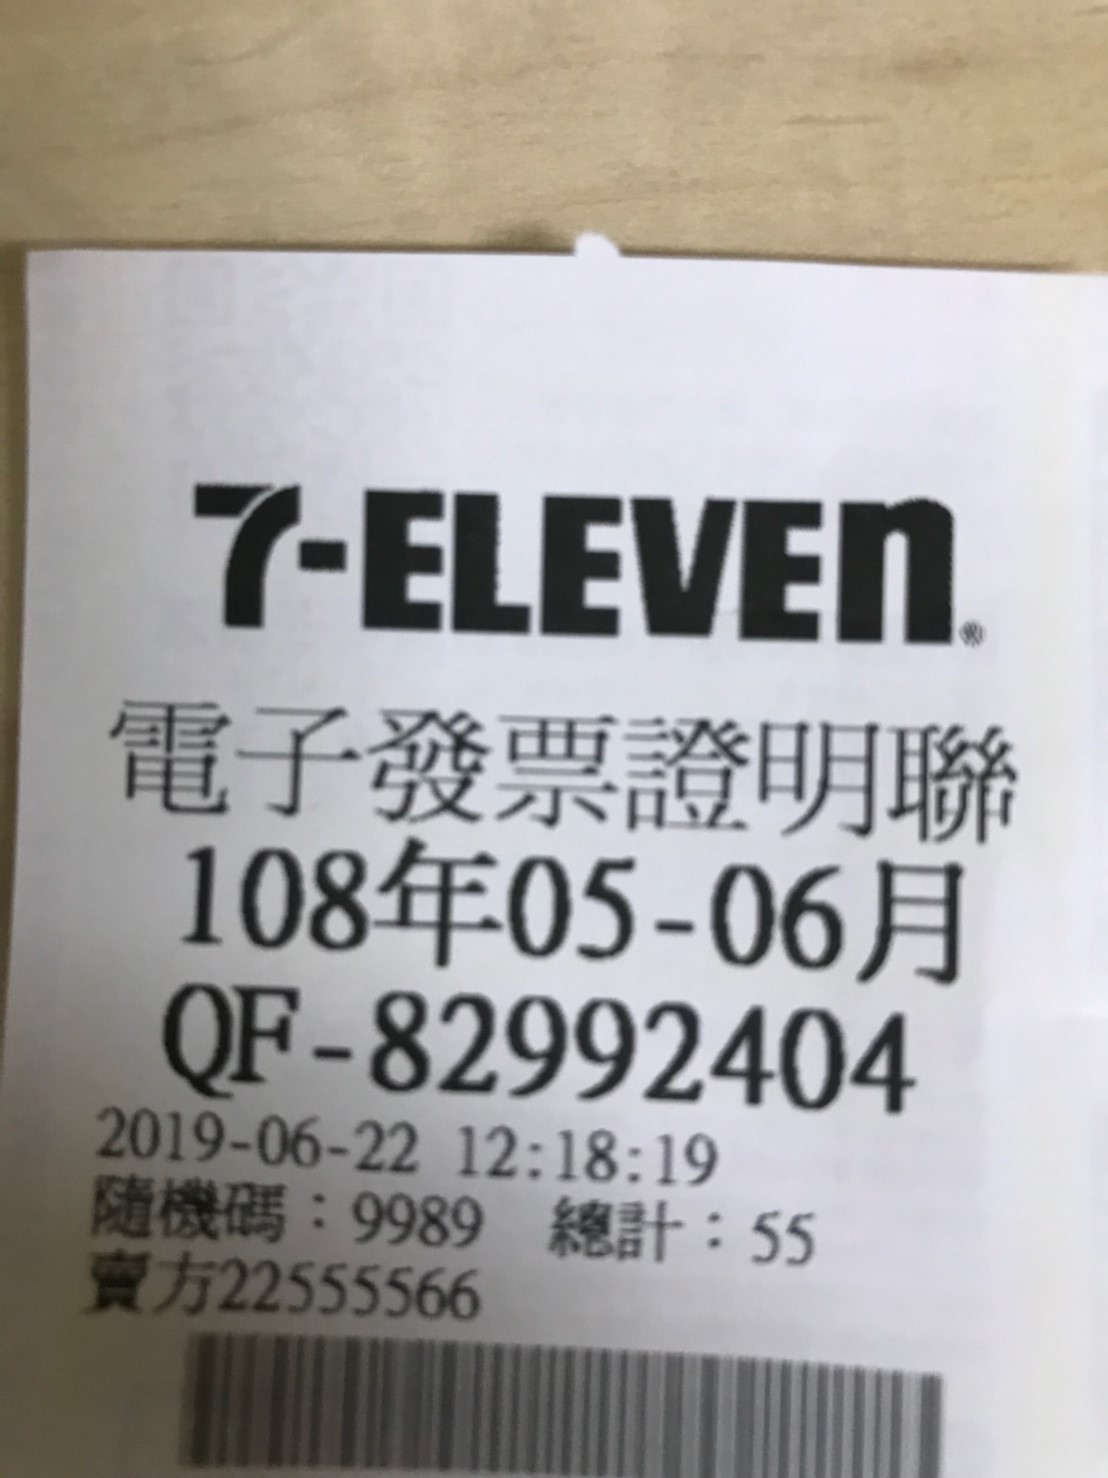Date_New: (166, 834, 970, 992)
Number_New: (364, 987, 922, 1120)
